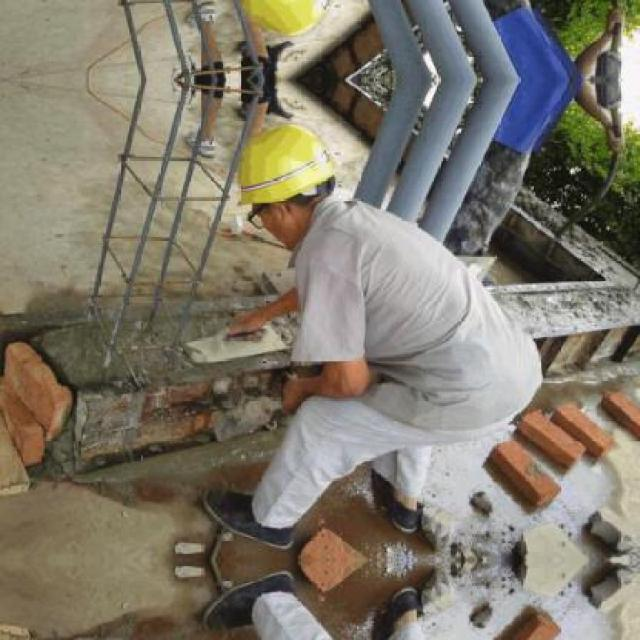helmet: (224, 115, 338, 248), (225, 0, 340, 46)
